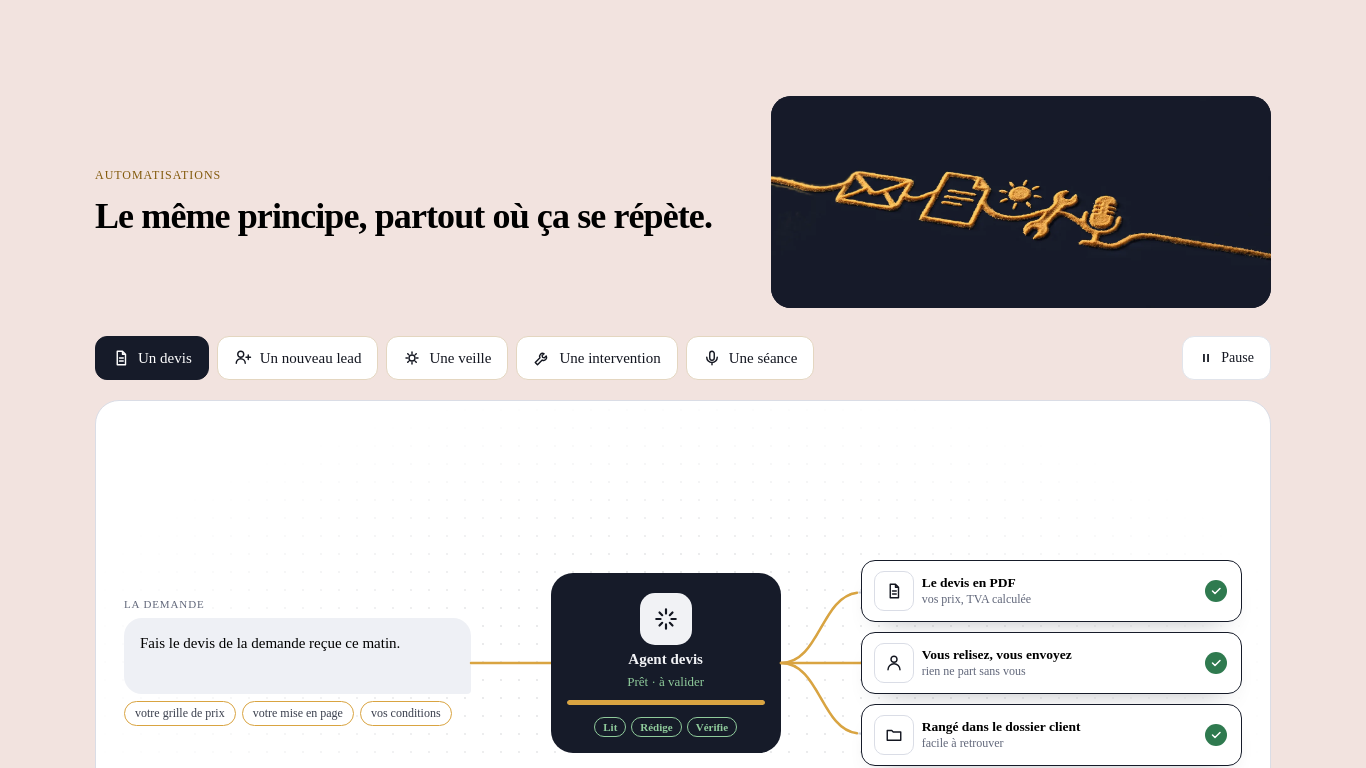
Test: reduced motion › a chip shows that job finished
Click the button "Une séance" at coordinates (750, 358), box [686,336,814,380]
Wait 10 ms
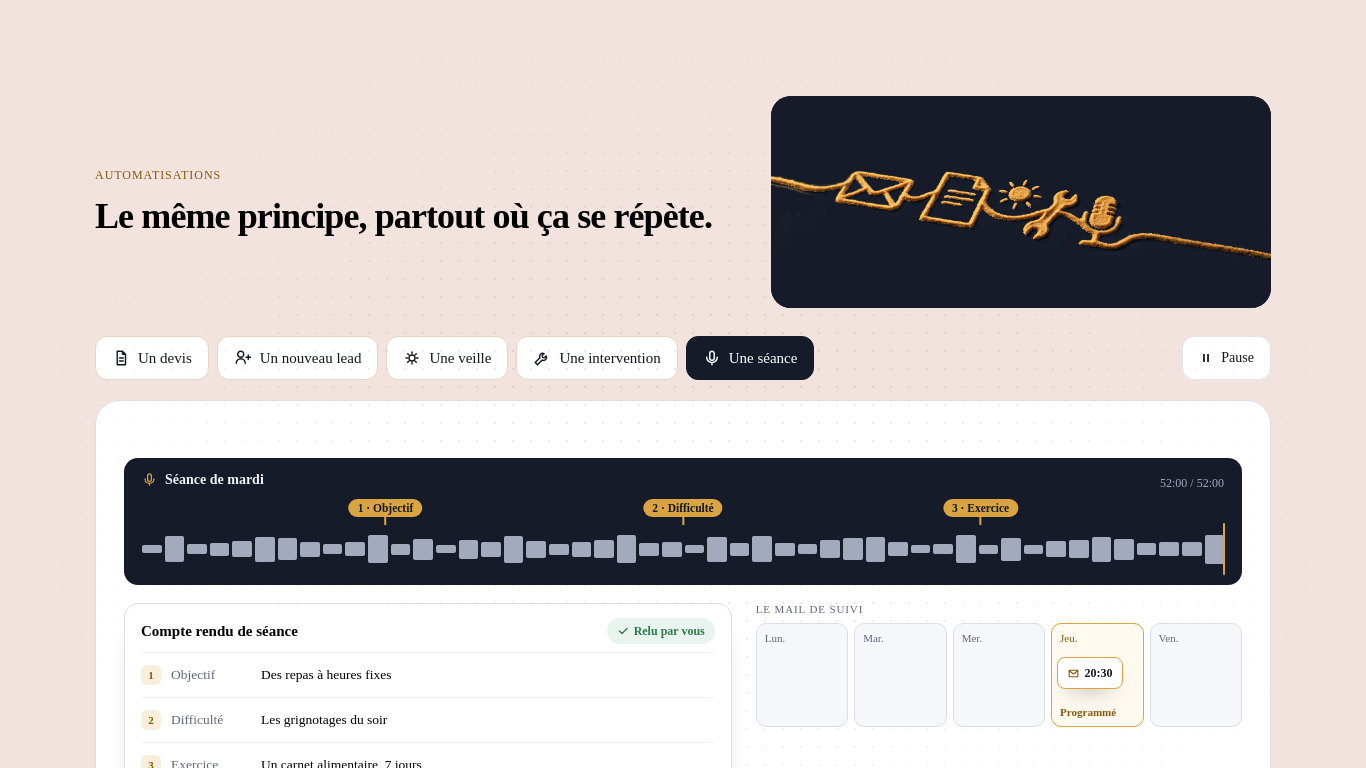
Expected: the element with class "se-player" is shown, [124,458,1242,585]
Expected: the text "Relu par vous" is shown, [607,618,715,644]
